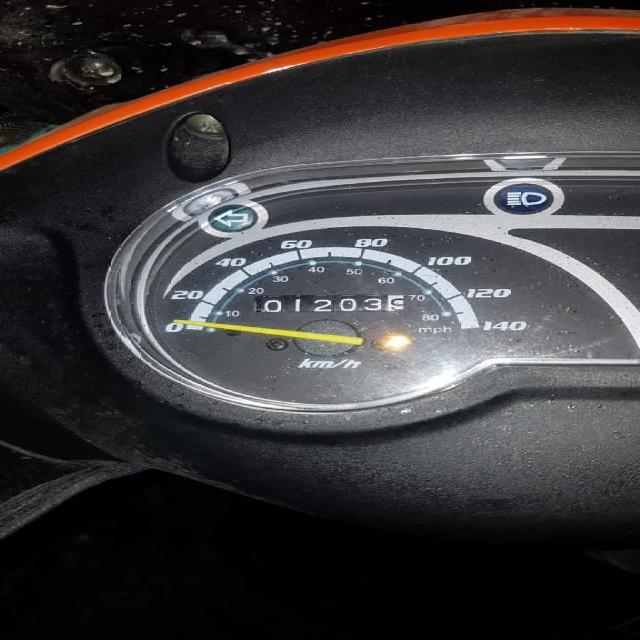odometer: (249, 292, 407, 314)
